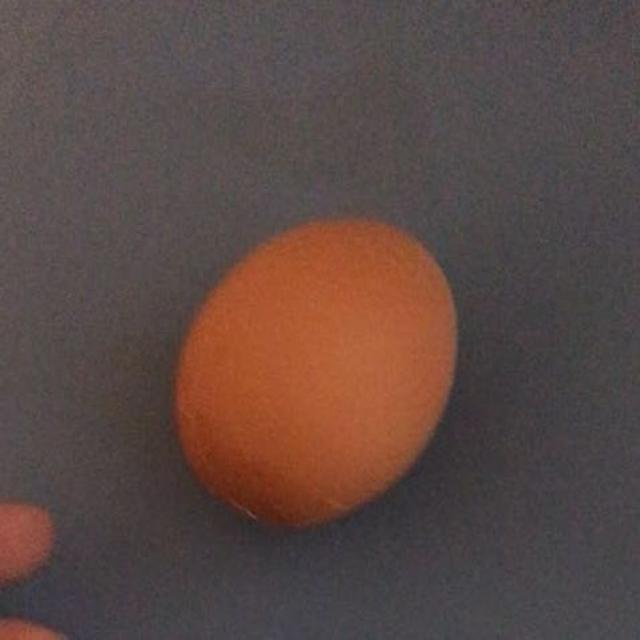egg: (173, 222, 455, 520)
